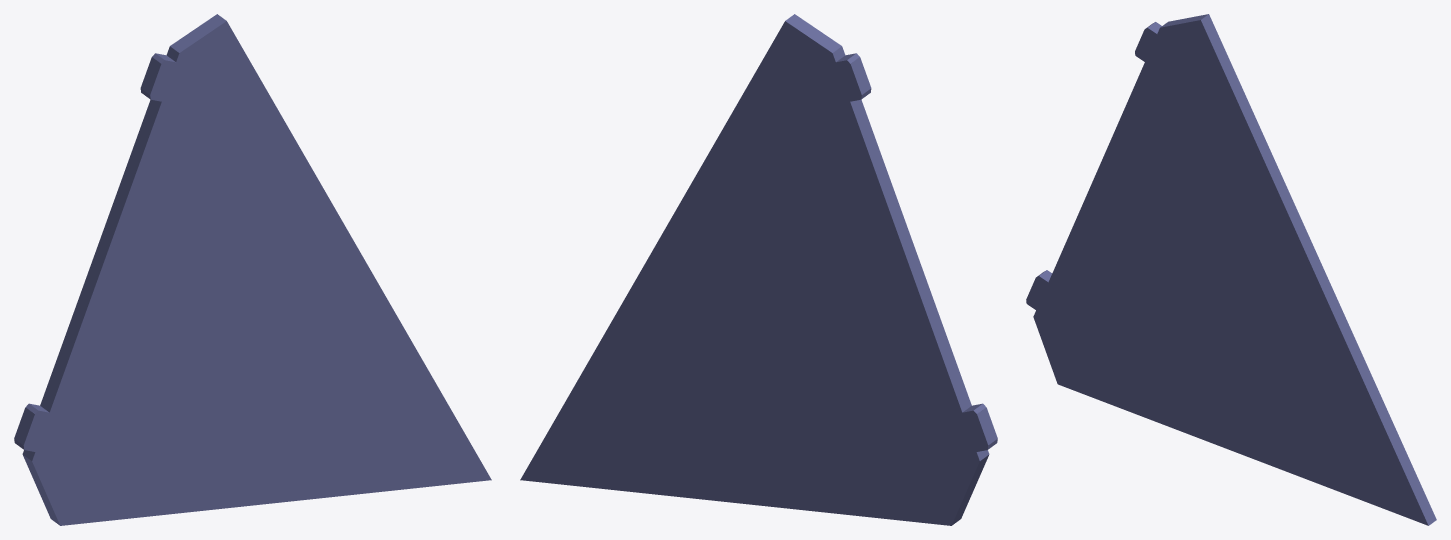
File: support.glb
3 views of the same model, side by side, from view 1: azimuth 30°, elevation 25°; view 2: azimuth 150°, elevation 25°; view 3: azimuth 330°, elevation 25° (orthographic). The views are drawn at different scales.
Parts seen in each view (by area): view 1: Mesh_Mesh_head_geo.001_lambert2SG.001; view 2: Mesh_Mesh_head_geo.001_lambert2SG.001; view 3: Mesh_Mesh_head_geo.001_lambert2SG.001.
Part boxes in pixels (left/top/right/bottom): Mesh_Mesh_head_geo.001_lambert2SG.001: left=14, top=14, right=491, bottom=525; Mesh_Mesh_head_geo.001_lambert2SG.001: left=520, top=14, right=997, bottom=525; Mesh_Mesh_head_geo.001_lambert2SG.001: left=1026, top=14, right=1436, bottom=525.
Bounding box in the file's own units: 84.71 × 90.56 × 3.
